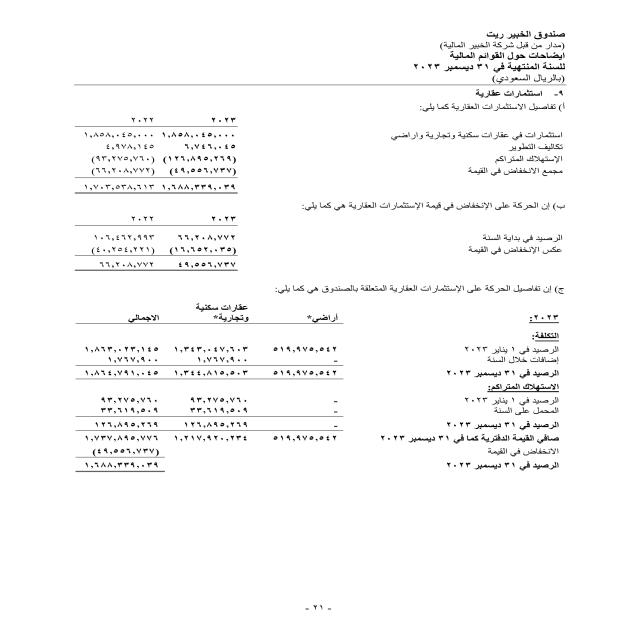notes: (428, 53, 569, 62)
table: (60, 300, 357, 481), (54, 111, 261, 277)
